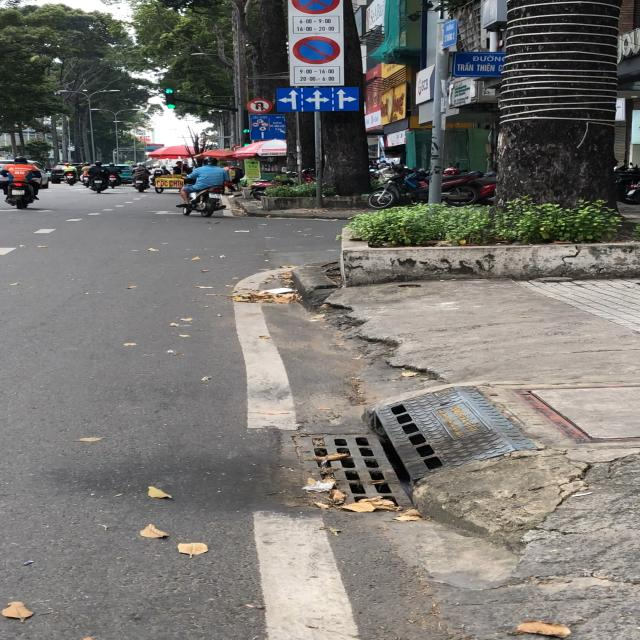Bien bao cam do xe: (287, 34, 341, 66)
Bien bao cam quay dau xe: (244, 96, 276, 116)
